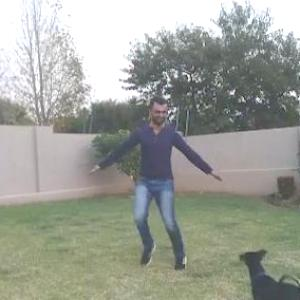land: (74, 76, 227, 282)
